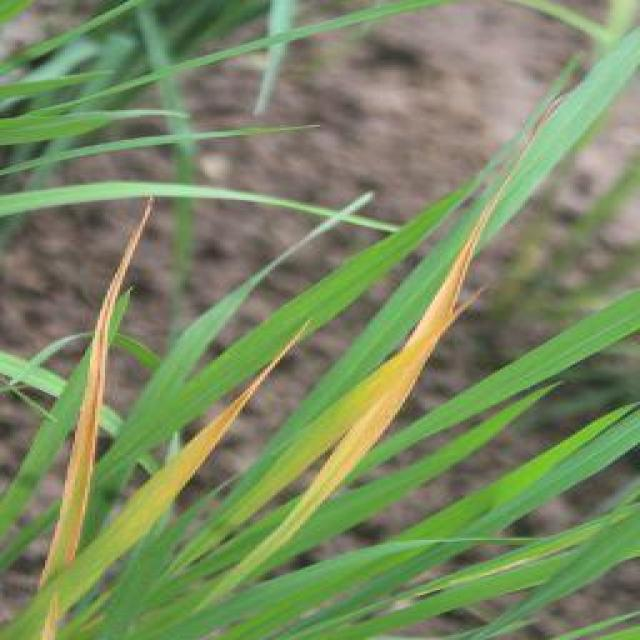Tungro: (270, 203, 544, 530), (46, 191, 178, 569)
